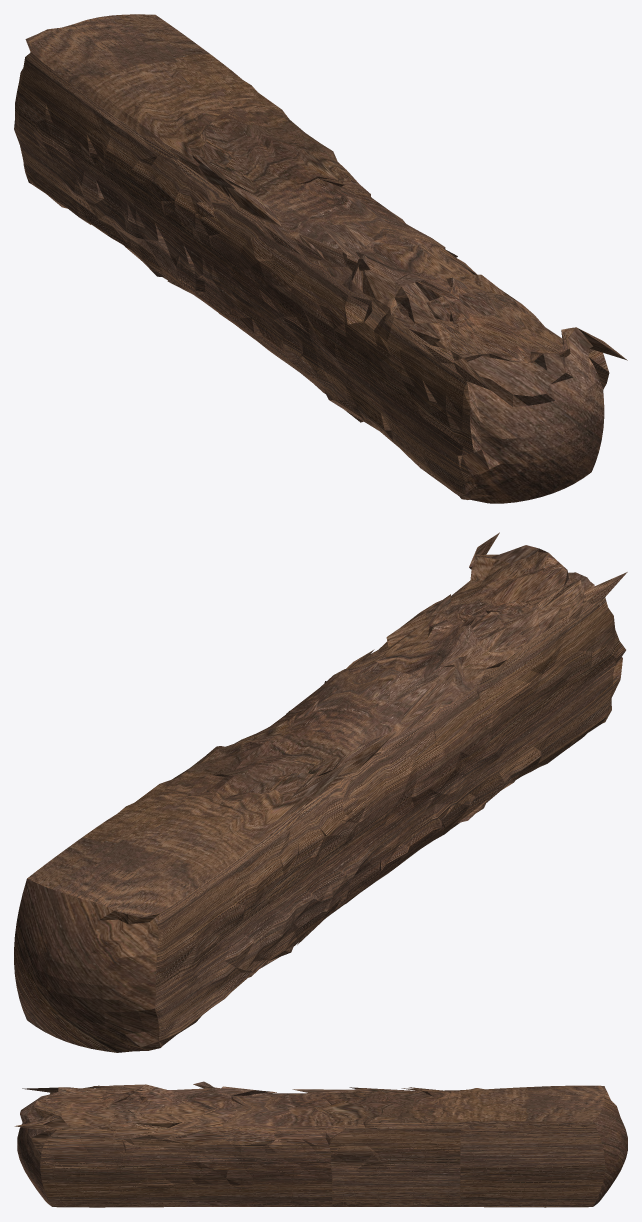
The model's file is MaderaFierro.fbx.
3 renders of one model, top to bottom at view 1: azimuth 30°, elevation 25°; view 2: azimuth 150°, elevation 25°; view 3: azimuth 270°, elevation 25°, orthographic. The views are drawn at different scales.
Visible parts, largest first — view 1: Madera; view 2: Madera; view 3: Madera.
Part boxes in pixels (x1,y1,x2,y2): Madera: [14, 14, 627, 503]; Madera: [14, 532, 627, 1052]; Madera: [14, 1081, 627, 1207].
Size of the model in its own units: 191 by 194 by 1111.
